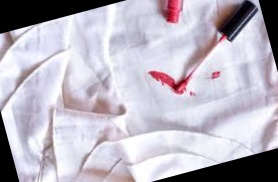lipstick: (146, 65, 179, 86), (160, 74, 185, 100), (205, 68, 225, 83), (187, 89, 197, 98)
